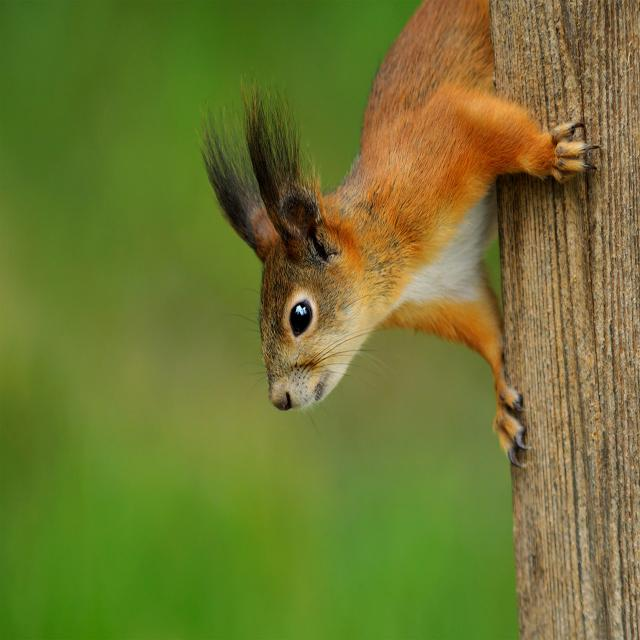Squirrel: (202, 0, 590, 439)
